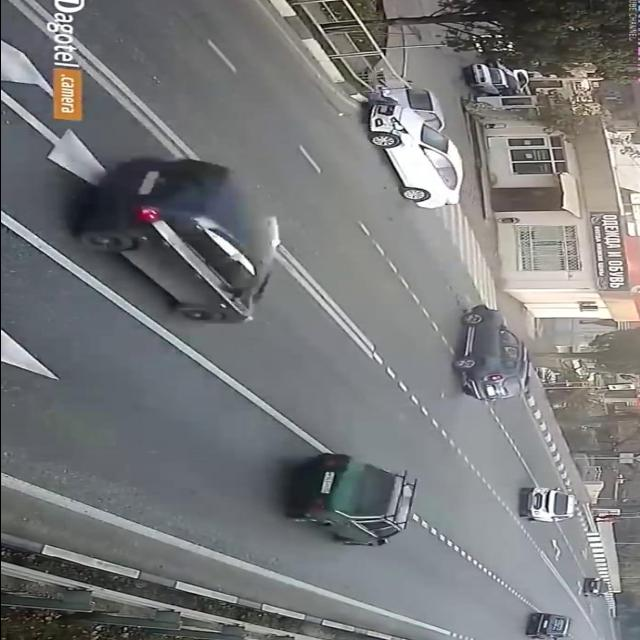accident: (355, 65, 469, 212)
